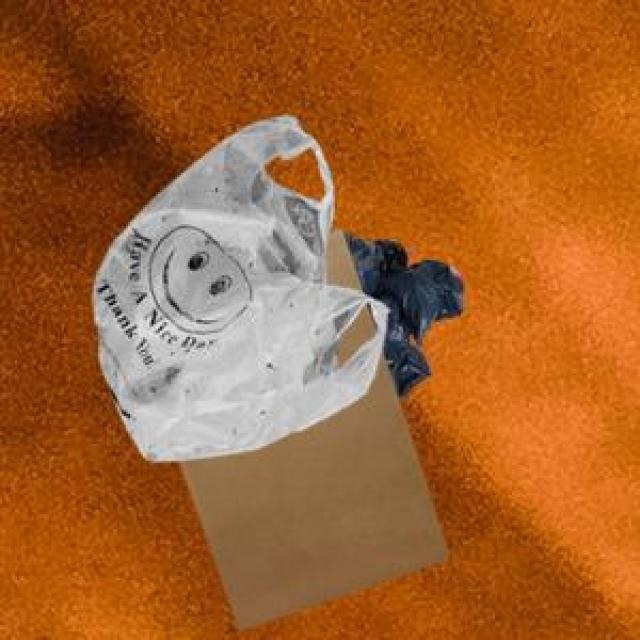miscellaneous trash: (339, 228, 459, 393)
paper: (175, 224, 444, 625)
